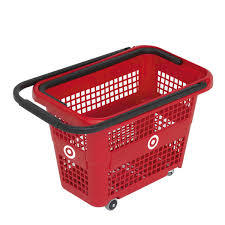with_basket: (11, 42, 215, 209)
